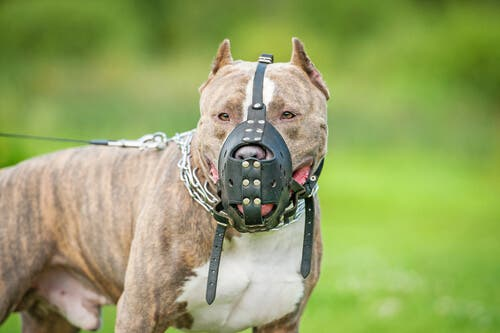Perro Pitbull: (134, 32, 371, 278)
